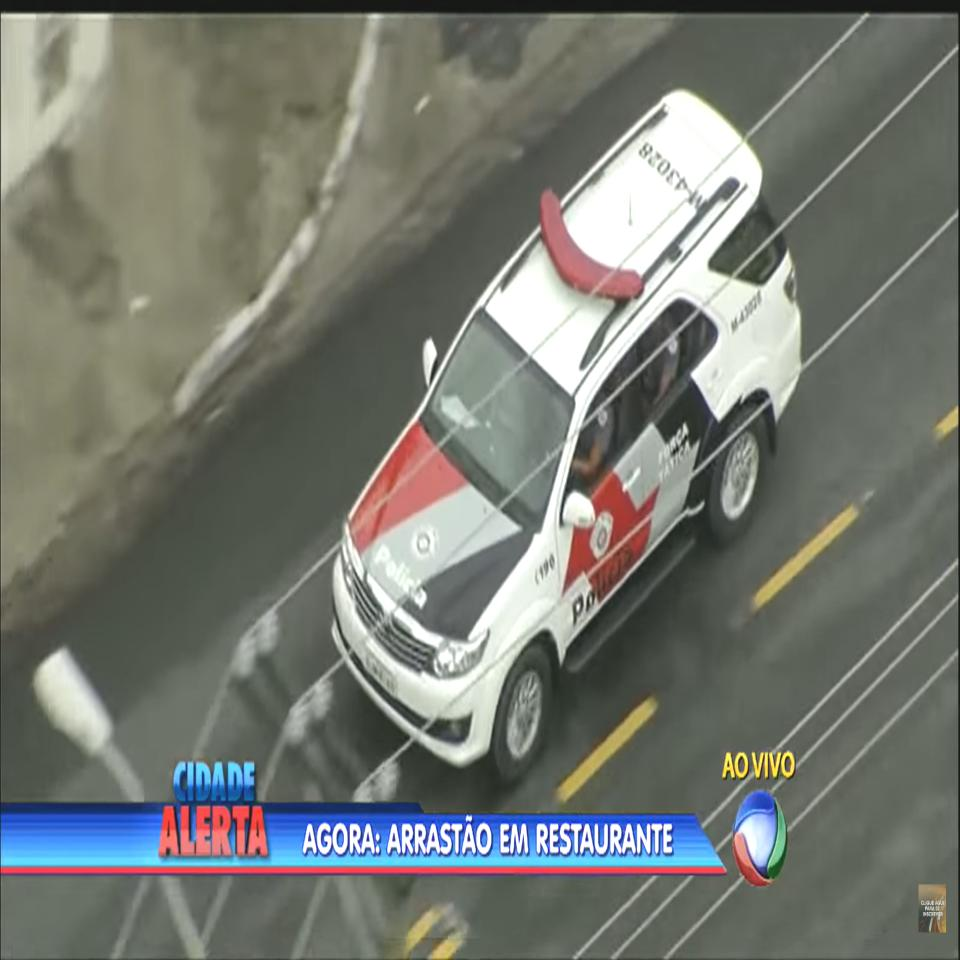viatura: (328, 89, 794, 789)
